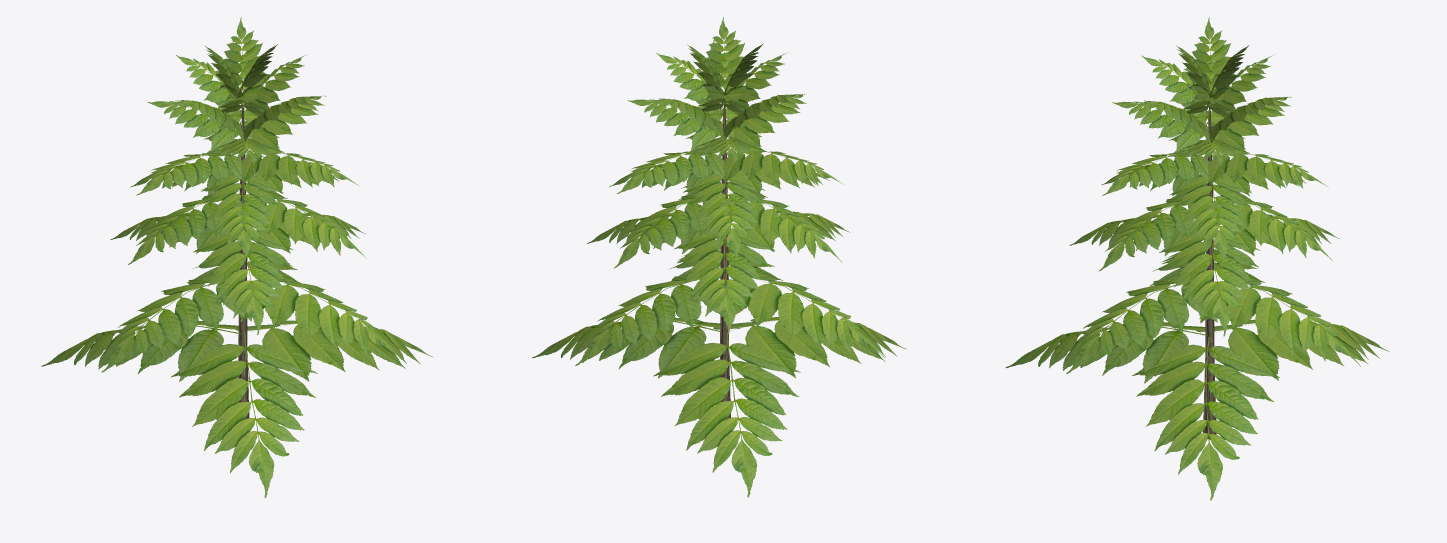
File: plant3.FBX
3 renders of one model, left to right at view 1: azimuth 30°, elevation 25°; view 2: azimuth 150°, elevation 25°; view 3: azimuth 270°, elevation 25°, orthographic.
Parts seen in each view (by area): view 1: Cylinder001; view 2: Cylinder001; view 3: Cylinder001.
Part boxes in pixels (<box>): Cylinder001: <box>41,17,432,497</box>; Cylinder001: <box>532,17,906,497</box>; Cylinder001: <box>1005,17,1389,500</box>.
Size of the model in its own units: 4.79 by 5.12 by 5.23.
